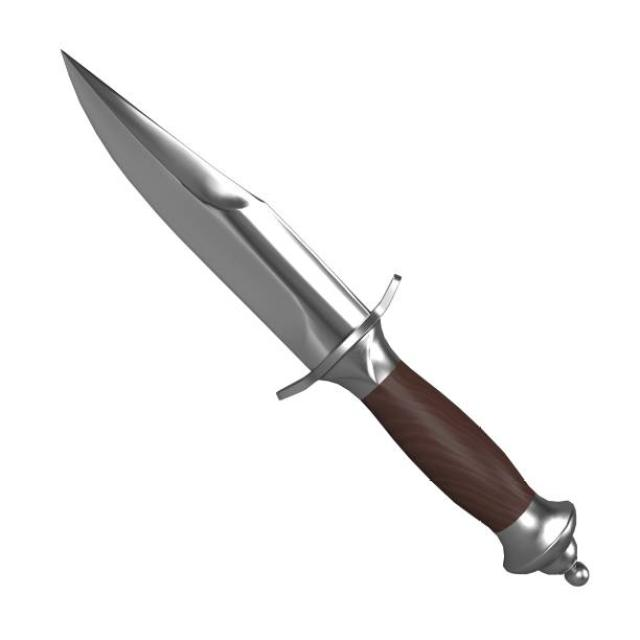knife: (55, 42, 598, 590)
